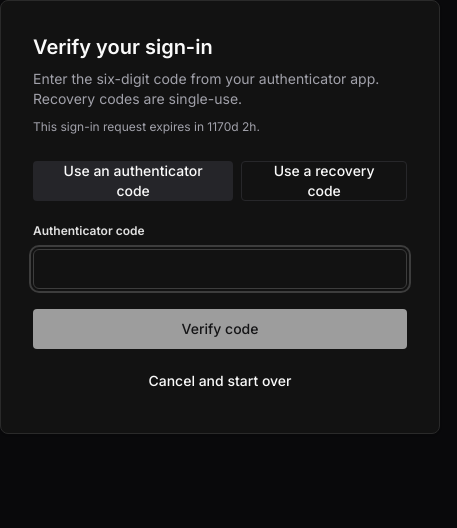
Scenario: MfaLoginFlow › restarts a superseded challenge without treating it as a completed login
Type "123456" into the field labelled "Authenticator code" at (220, 269), box [33,249,407,289]
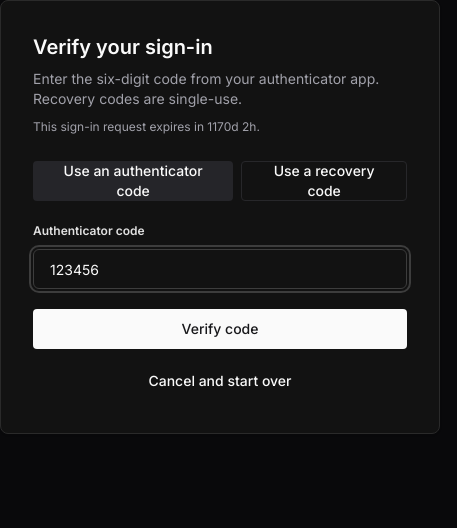
Click the button "Verify code" at (220, 329), box [33,309,407,349]
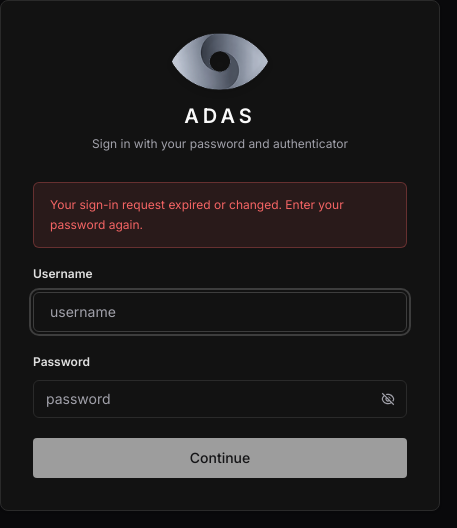
Expected: the password field labelled "Password" is shown, [33,380,407,418]
Expected: the message shows "sign-in request expired", [50,196,344,232]
